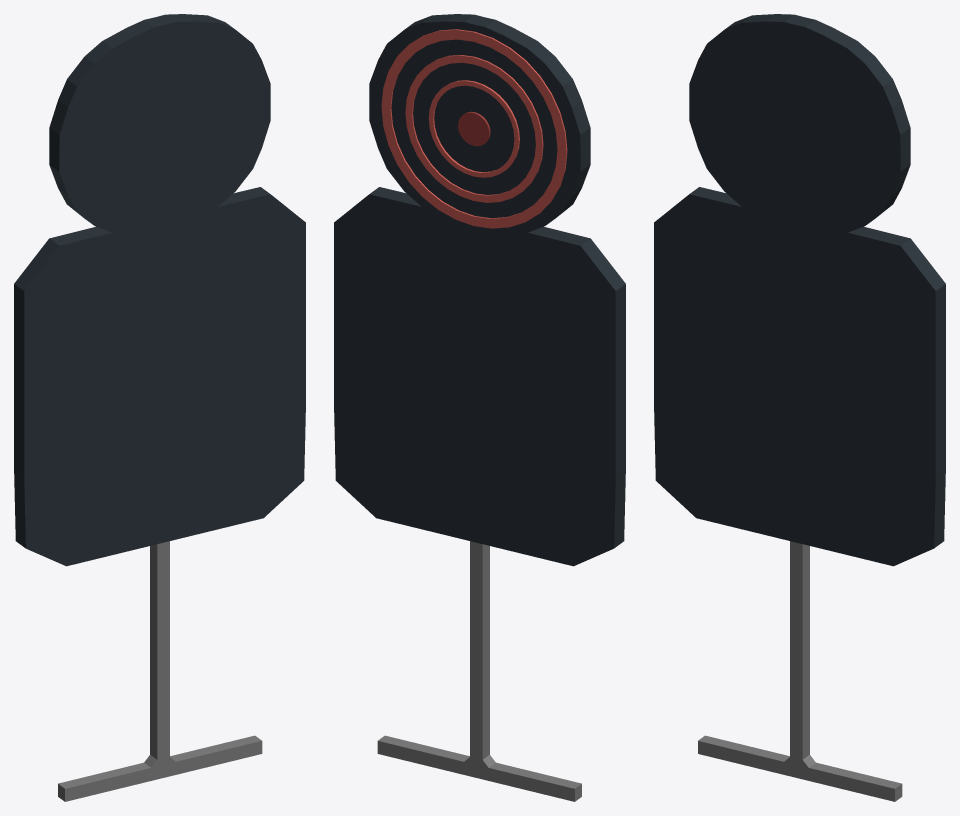
File: Ciblenoir.glb
The picture shows the model from 3 angles, left to right: view 1: azimuth 30°, elevation 25°; view 2: azimuth 150°, elevation 25°; view 3: azimuth 330°, elevation 25°; orthographic projection.
Parts seen in each view (by area): view 1: Plane.001; view 2: Plane.001; view 3: Plane.001.
Part boxes in pixels (<box>): Plane.001: <box>14,14,305,801</box>; Plane.001: <box>334,14,625,801</box>; Plane.001: <box>654,14,945,801</box>.
Size of the model in its own units: 0.8007 by 2.05 by 0.0562.
